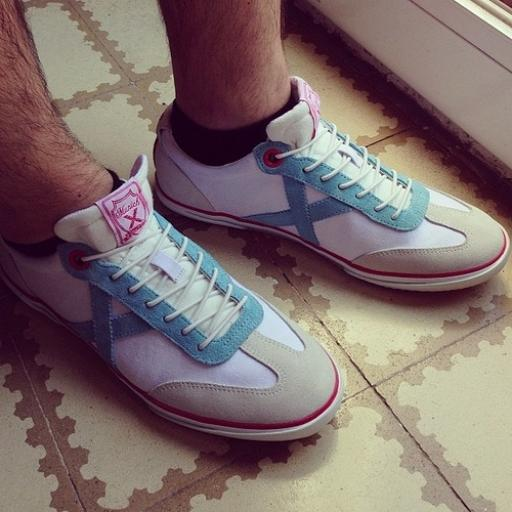shoe: (0, 157, 343, 440), (154, 77, 510, 291)
